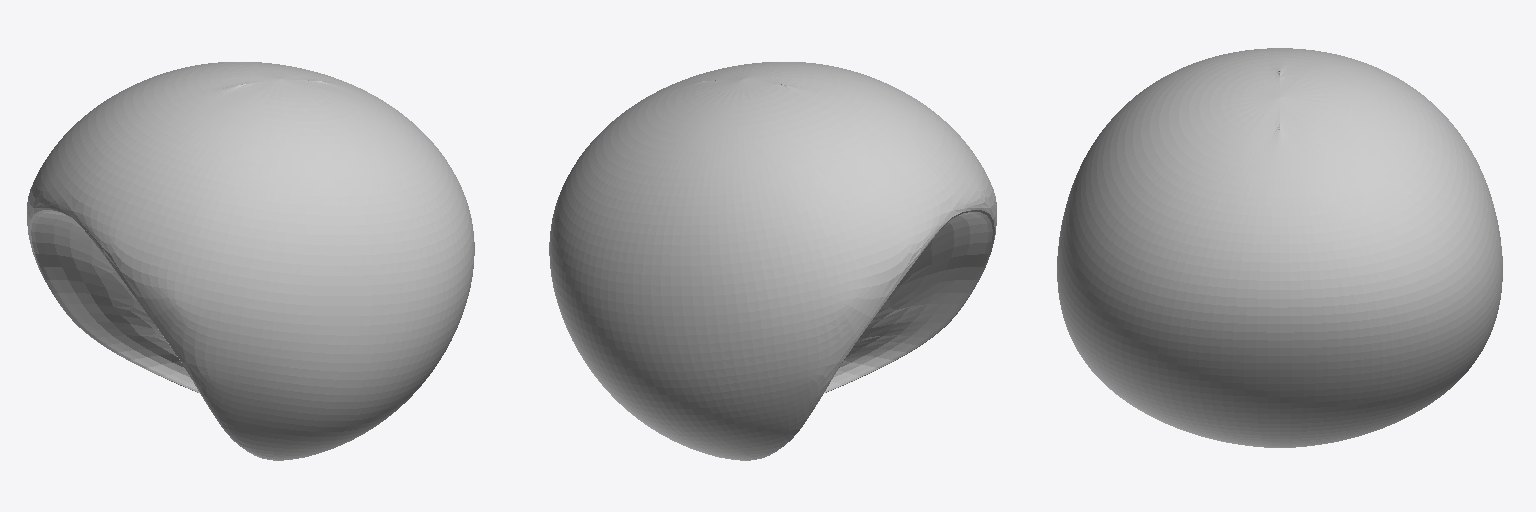
File: uparmR.obj
The picture shows the model from 3 angles: view 1: azimuth 30°, elevation 25°; view 2: azimuth 150°, elevation 25°; view 3: azimuth 270°, elevation 25°; orthographic projection.
Visible parts, largest first — view 1: uparmR:MeshpolySurface21; view 2: uparmR:MeshpolySurface21; view 3: uparmR:MeshpolySurface21.
Boxes of the visible parts, x1=… form: uparmR:MeshpolySurface21: x1=27, y1=62, x2=474, y2=460; uparmR:MeshpolySurface21: x1=549, y1=62, x2=996, y2=460; uparmR:MeshpolySurface21: x1=1057, y1=48, x2=1502, y2=447.
Size of the model in its own units: 0.419 by 0.3799 by 0.4384.